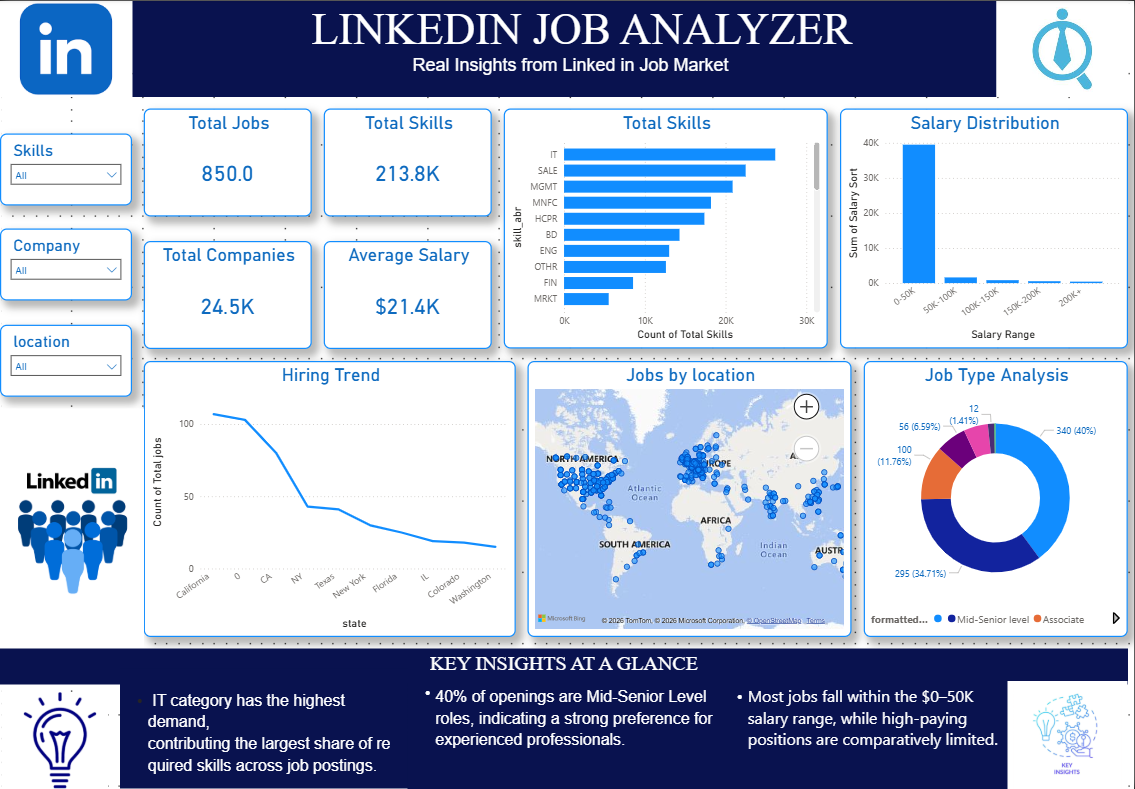

Layout of this report page (visuals, bound fields, positions):
{"tool":"powerbi","page":{"name":"Page 1","canvas":[1512,1050],"ordinal":0},"visuals":[{"type":"card","title":"Total Jobs","fields":{"Values":["CountNonNull(postings_final.Total jobs)"]},"box":[192,144,224,144],"z":0},{"type":"card","title":"Total Skills","fields":{"Values":["CountNonNull(job_skills_final.Total Skills)"]},"box":[432,144,224,144],"z":1000},{"type":"card","title":"Total Companies","fields":{"Values":["CountNonNull(companies.Total Compamies)"]},"box":[192,320,224,144],"z":2000},{"type":"card","title":"Average  Salary","fields":{"Values":["Avg(salaries_final.med_salary)"]},"box":[432,320,224,144],"z":3000},{"type":"lineChart","title":"Hiring Trend ","fields":{"Y":["CountNonNull(postings_final.Total jobs)"],"Category":["companies.state"]},"box":[192,480,496,368],"z":4000},{"type":"map","title":"Jobs by location ","fields":{"Category":["companies.state"]},"box":[704,480,432,368],"z":5000},{"type":"clusteredBarChart","title":"Total Skills","fields":{"Category":["job_skills_final.skill_abr"],"Y":["CountNonNull(job_skills_final.Total Skills)"]},"box":[672,144,432,320],"z":6000},{"type":"clusteredColumnChart","title":"Salary Distribution","fields":{"Category":["salaries_final.Salary Range"],"Y":["Sum(salaries_final.Salary Sort)"]},"box":[1120,144,384,320],"z":7000},{"type":"donutChart","title":"Job Type Analysis","fields":{"Category":["postings_final.formatted_experience_level"],"Y":["CountNonNull(postings_final.formatted_experience_level)"]},"box":[1152,480,352,368],"z":8000},{"type":"slicer","fields":{"Values":["postings_final.location"]},"box":[0,432,176,96],"z":9000},{"type":"slicer","fields":{"Values":["companies.name"]},"box":[0,304,176,96],"z":10000},{"type":"slicer","fields":{"Values":["job_skills_final.skill_abr"]},"box":[0,176,176,96],"z":11000},{"type":"textbox","box":[176,0,1168,128],"z":12000},{"type":"image","box":[0,0,176,128],"z":13000},{"type":"image","box":[0,544,192,320],"z":14000},{"type":"image","box":[1328,0,176,128],"z":15000},{"type":"textbox","box":[0,864,1504,48],"z":16000},{"type":"textbox","box":[160,890,384,160],"z":17000},{"type":"image","box":[0,922,160,128],"z":18000},{"type":"textbox","box":[544,906,432,144],"z":19000},{"type":"textbox","box":[960,906,384,144],"z":20000},{"type":"image","box":[1344,906,160,144],"z":21000}]}

Visuals, with their boxes in screenshot pixels (x1, y1, x2, y2), scaled from the page's 1512x1050 canvas onto the 1135x789 screenshot:
"Total Jobs" card: <bbox>144, 108, 312, 216</bbox>
"Total Skills" card: <bbox>324, 108, 492, 216</bbox>
"Total Companies" card: <bbox>144, 240, 312, 349</bbox>
"Average  Salary" card: <bbox>324, 240, 492, 349</bbox>
"Hiring Trend " lineChart: <bbox>144, 361, 516, 637</bbox>
"Jobs by location " map: <bbox>528, 361, 853, 637</bbox>
"Total Skills" clusteredBarChart: <bbox>504, 108, 829, 349</bbox>
"Salary Distribution" clusteredColumnChart: <bbox>841, 108, 1129, 349</bbox>
"Job Type Analysis" donutChart: <bbox>865, 361, 1129, 637</bbox>
slicer - postings_final.location: <bbox>0, 325, 132, 397</bbox>
slicer - companies.name: <bbox>0, 228, 132, 301</bbox>
slicer - job_skills_final.skill_abr: <bbox>0, 132, 132, 204</bbox>
textbox: <bbox>132, 0, 1009, 96</bbox>
image: <bbox>0, 0, 132, 96</bbox>
image: <bbox>0, 409, 144, 649</bbox>
image: <bbox>997, 0, 1129, 96</bbox>
textbox: <bbox>0, 649, 1129, 685</bbox>
textbox: <bbox>120, 669, 408, 788</bbox>
image: <bbox>0, 693, 120, 788</bbox>
textbox: <bbox>408, 681, 733, 788</bbox>
textbox: <bbox>721, 681, 1009, 788</bbox>
image: <bbox>1009, 681, 1129, 788</bbox>
